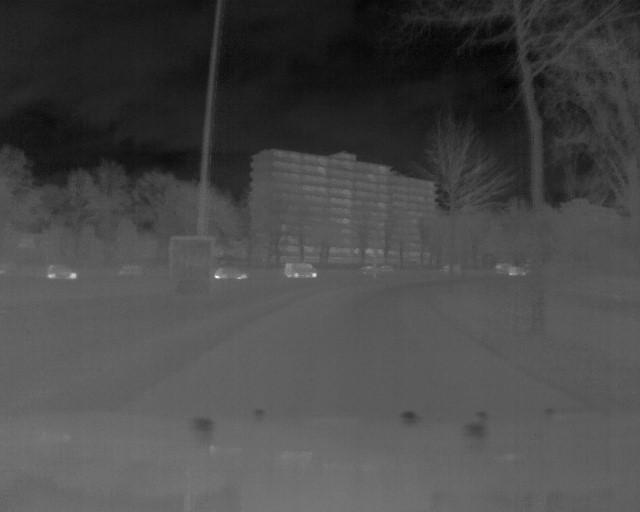car: (277, 257, 321, 283), (208, 262, 251, 284), (42, 261, 80, 283)
